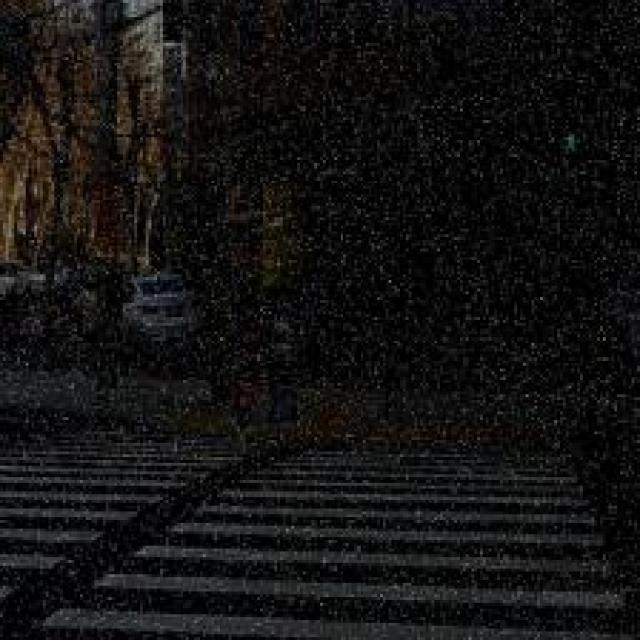crosswalk: (3, 388, 640, 640)
